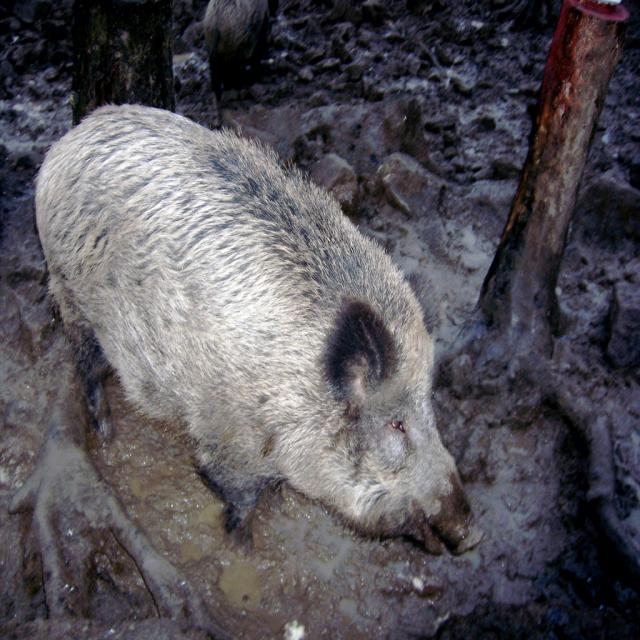Pig: (31, 100, 484, 562)
